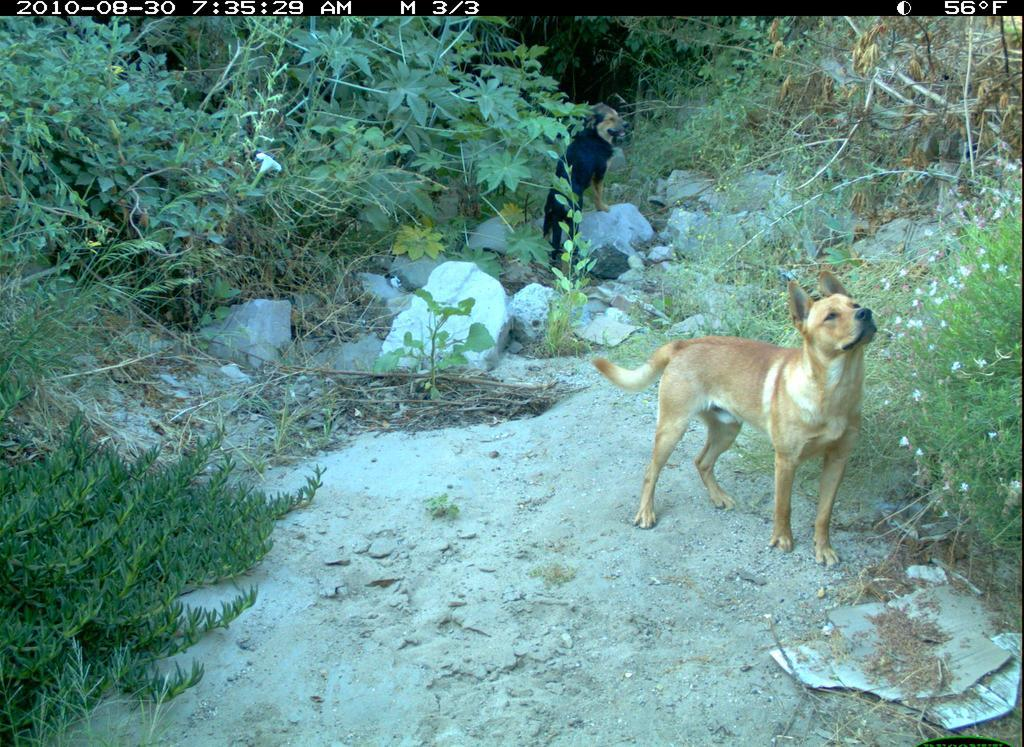dog: (583, 264, 886, 574), (536, 95, 639, 274)
